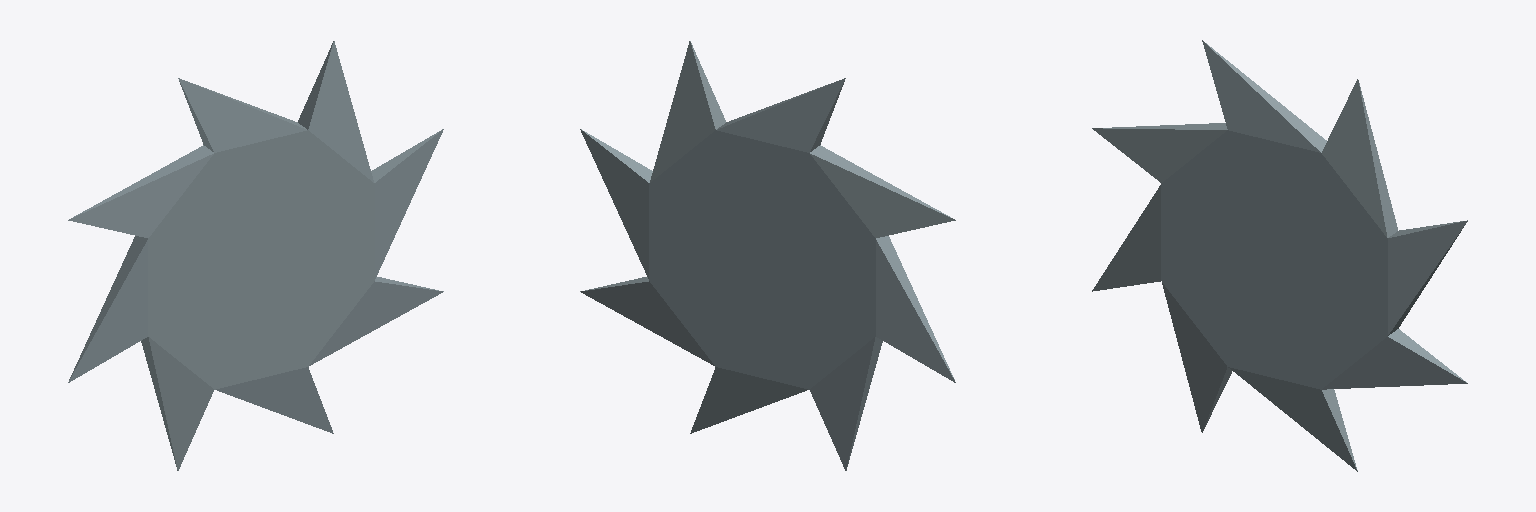
Rendered from trap_floor_saw.obj.
3 renders of one model, left to right at view 1: azimuth 30°, elevation 25°; view 2: azimuth 150°, elevation 25°; view 3: azimuth 330°, elevation 25°, orthographic.
Parts seen in each view (by area): view 1: trap_floor_saw; view 2: trap_floor_saw; view 3: trap_floor_saw.
Part boxes in pixels (bbox=[...]): trap_floor_saw: bbox=[68, 41, 443, 470]; trap_floor_saw: bbox=[580, 41, 955, 470]; trap_floor_saw: bbox=[1092, 40, 1467, 471].
Bounding box in the file's own units: 1 × 1 × 0.05.